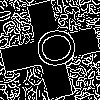O: (25, 25, 79, 73)
